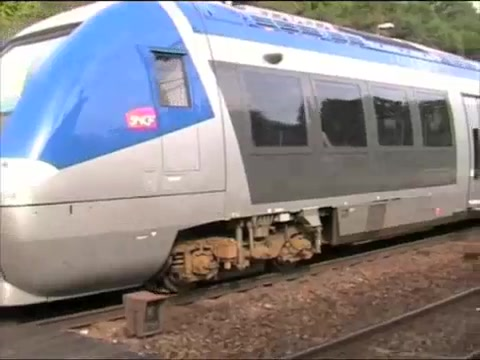train: (1, 2, 480, 321)
